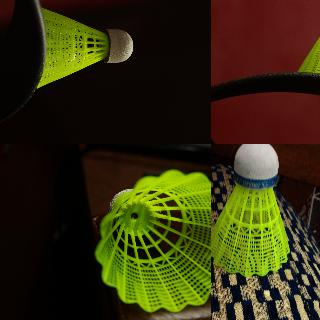shuttlecock: (94, 168, 210, 313), (211, 144, 291, 278), (41, 8, 132, 86), (298, 5, 319, 82)
